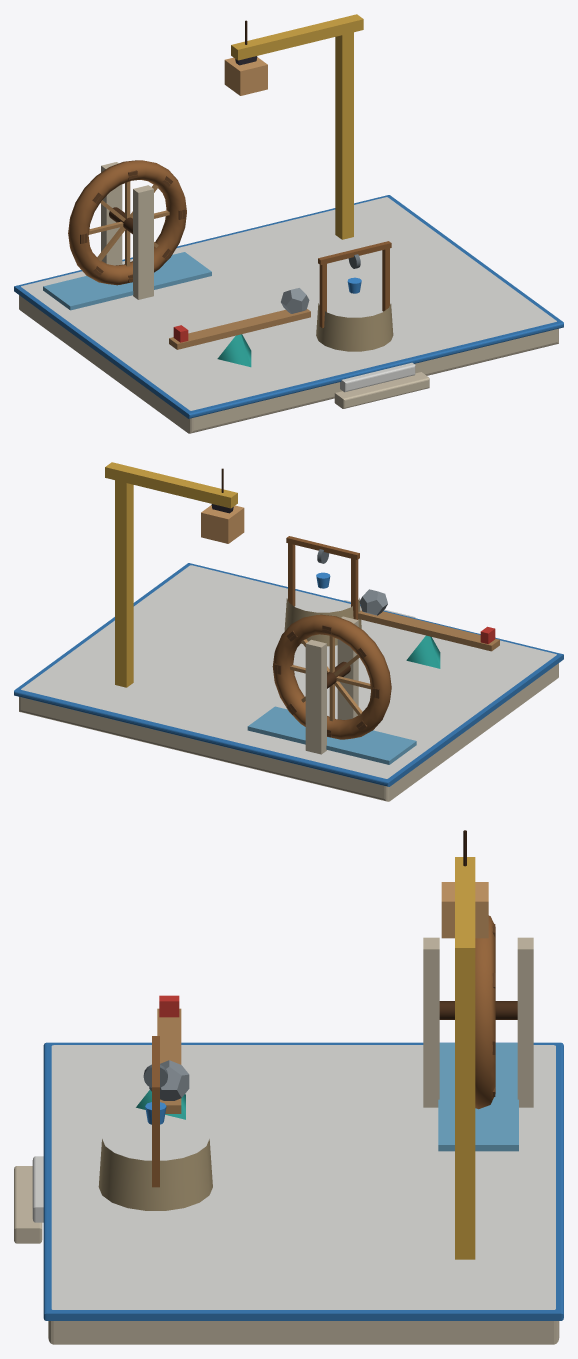
File: machines.glb
3 renders of one model, top to bottom at view 1: azimuth 30°, elevation 25°; view 2: azimuth 150°, elevation 25°; view 3: azimuth 270°, elevation 25°, orthographic. The views are drawn at different scales.
Visible parts, largest first — view 1: part_000, part_008, part_002, part_005; view 2: part_000, part_008, part_002, part_005; view 3: part_000, part_008, part_002, part_005.
Boxes of the visible parts, x1=… form: part_000: x1=14, y1=14, x2=563, y2=433; part_008: x1=68, y1=160, x2=186, y2=285; part_002: x1=169, y1=288, x2=310, y2=349; part_005: x1=224, y1=57, x2=267, y2=95; part_000: x1=14, y1=462, x2=563, y2=801; part_008: x1=272, y1=614, x2=391, y2=739; part_002: x1=358, y1=589, x2=499, y2=651; part_005: x1=201, y1=505, x2=244, y2=543; part_000: x1=14, y1=857, x2=563, y2=1344; part_008: x1=439, y1=915, x2=517, y2=1109; part_002: x1=149, y1=995, x2=189, y2=1113; part_005: x1=441, y1=882, x2=488, y2=938.
Bounding box in the file's own units: 9.54 × 6.4 × 8.18.
